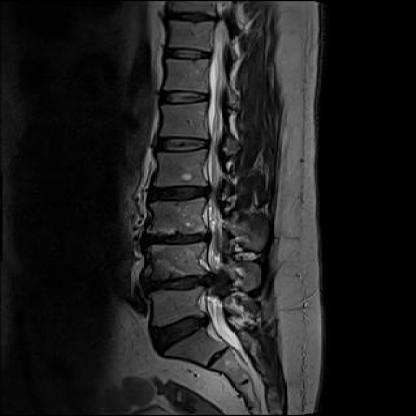Disc Bulgerotation: (147, 310, 223, 354), (135, 226, 218, 252)
